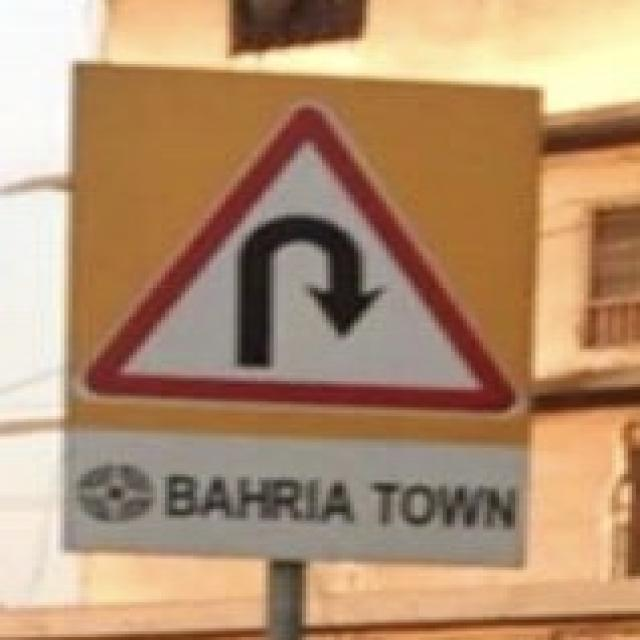u turn: (76, 96, 518, 420)
